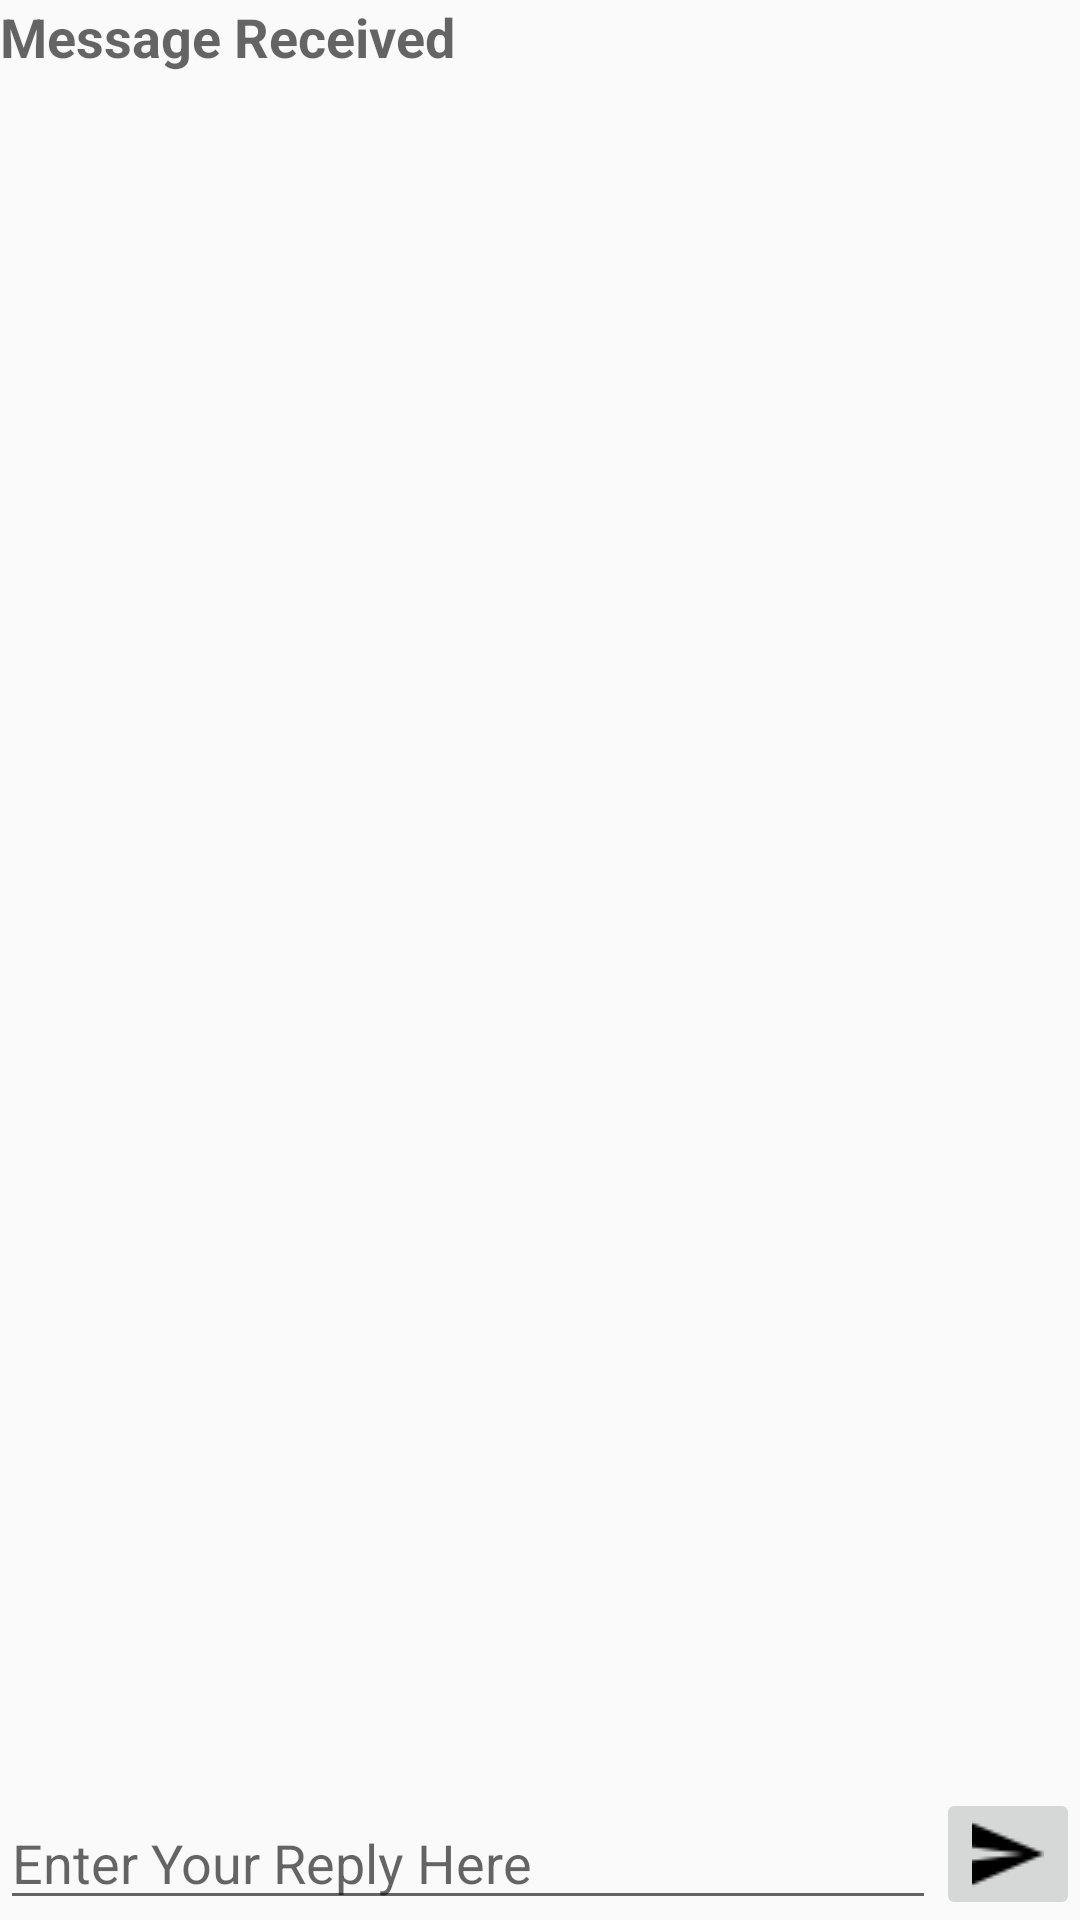

Named icons in this screenshot (1080w x 1920h) and their bounding boxes, {"x1": x1, "y1": y1, "x2": x2, "y2": y2}:
send: {"x1": 948, "y1": 1806, "x2": 1068, "y2": 1902}
